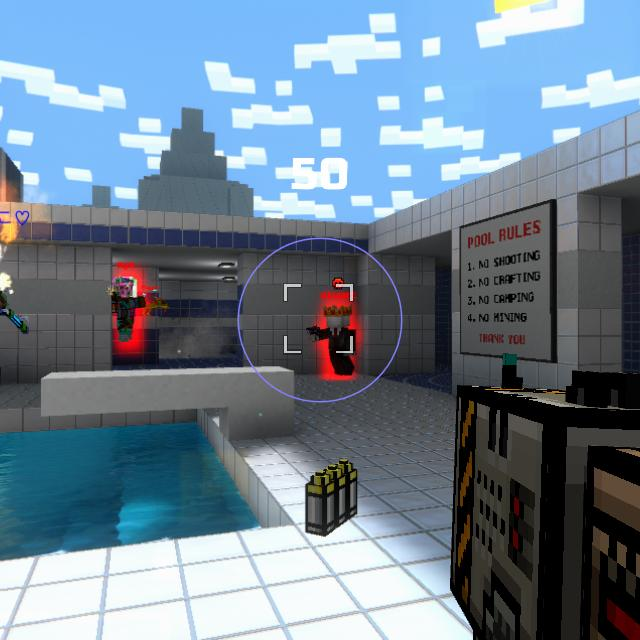Enemy: (319, 308, 359, 378), (111, 278, 144, 343)
